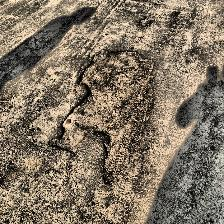pothole: (48, 47, 156, 185)
